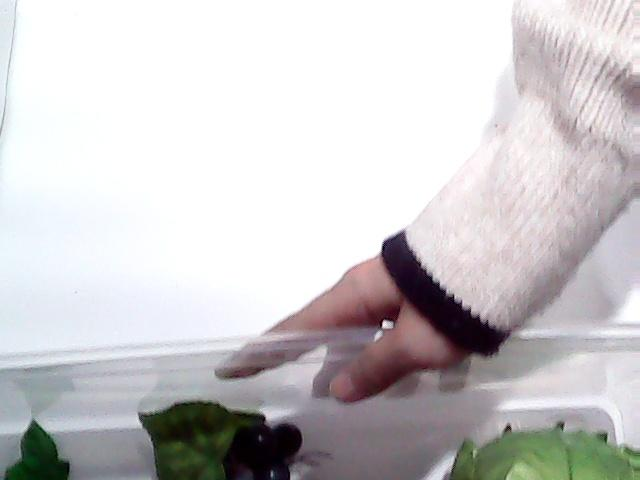cabbage: (430, 412, 640, 480)
grape: (138, 398, 306, 480)
